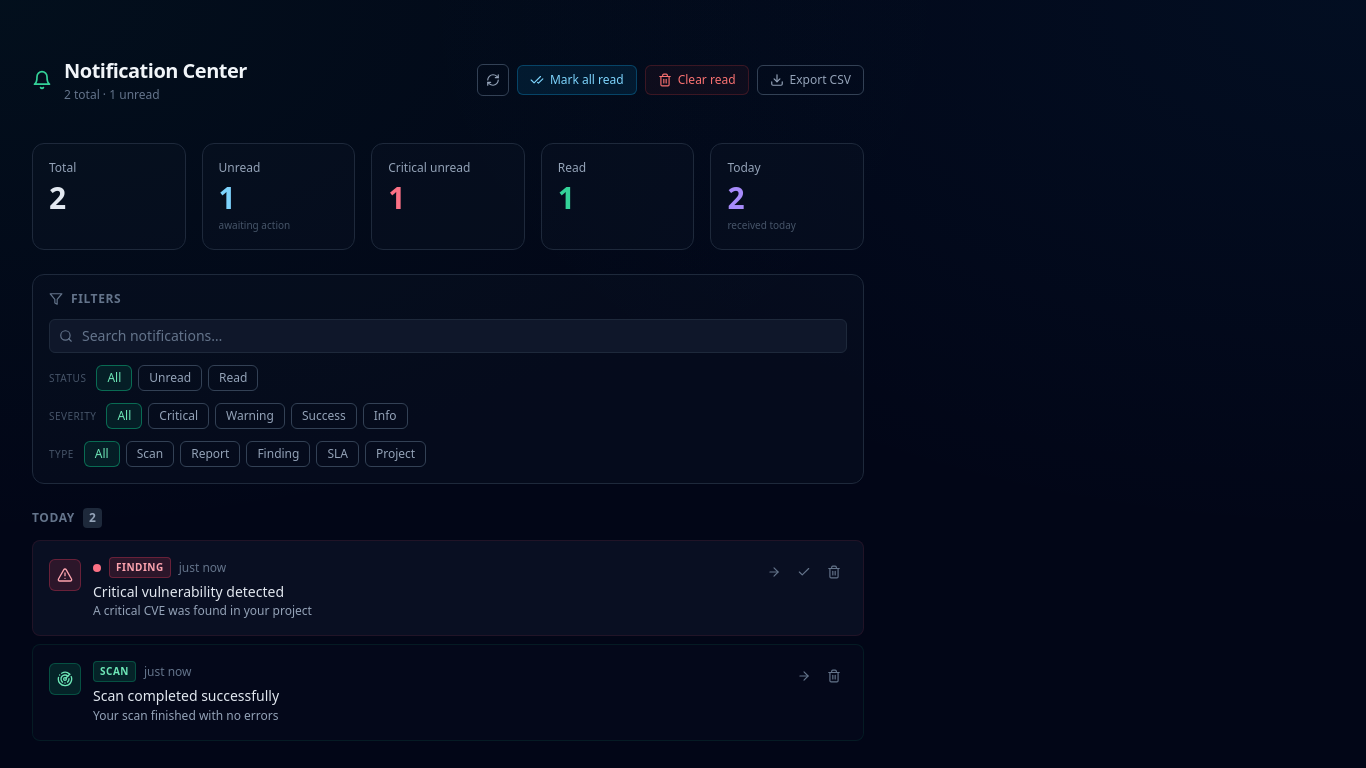
it: Notifications — filters › applies read filter toggle — unread filter hides read notification
The width and height of the screenshot is (1366, 768).
Expected: the text "Scan completed successfully" is shown, [93,686,279,705]
# Click "Unread" filter button (not the stat card label)
Click the button "Unread" at (170, 378), box [138,365,202,391]
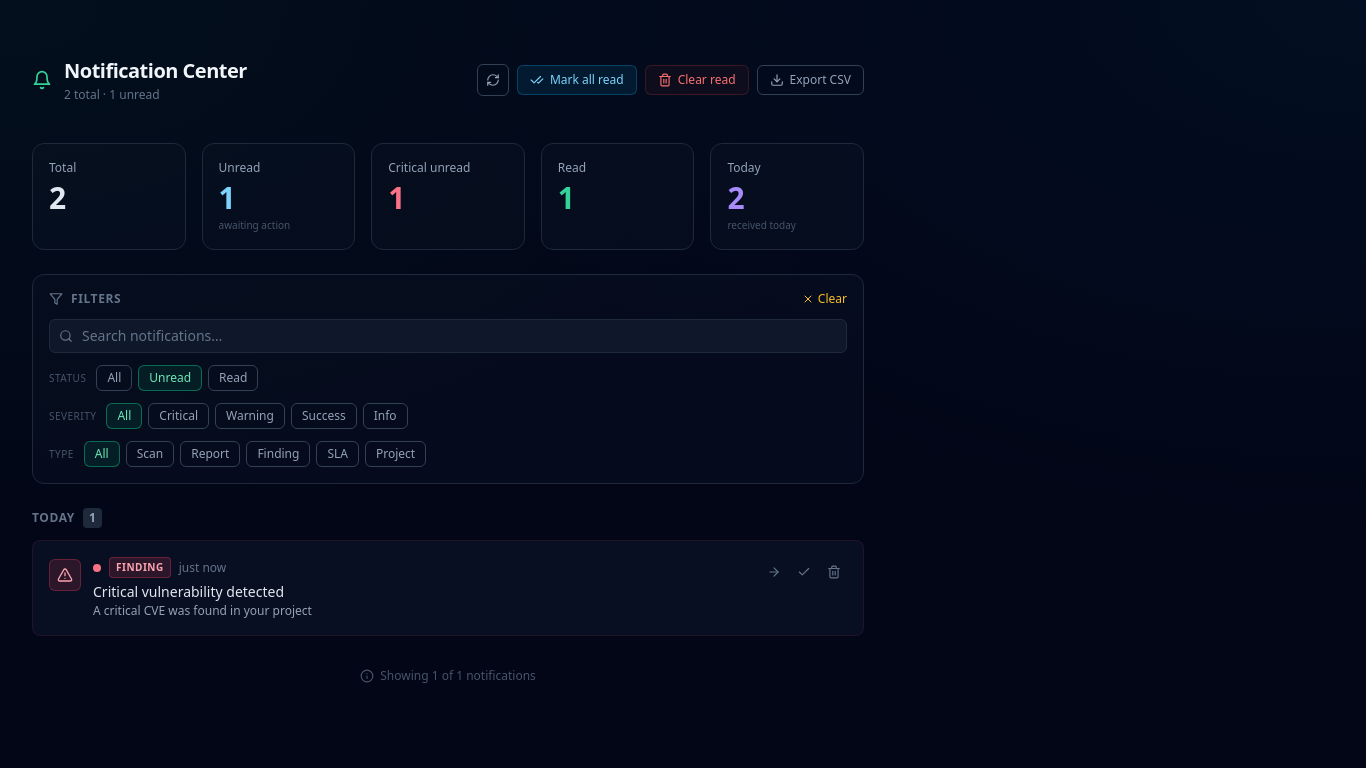
Expected: the text "Critical vulnerability detected" is shown, [93,582,284,601]
Result: the text "Scan completed successfully" is gone
